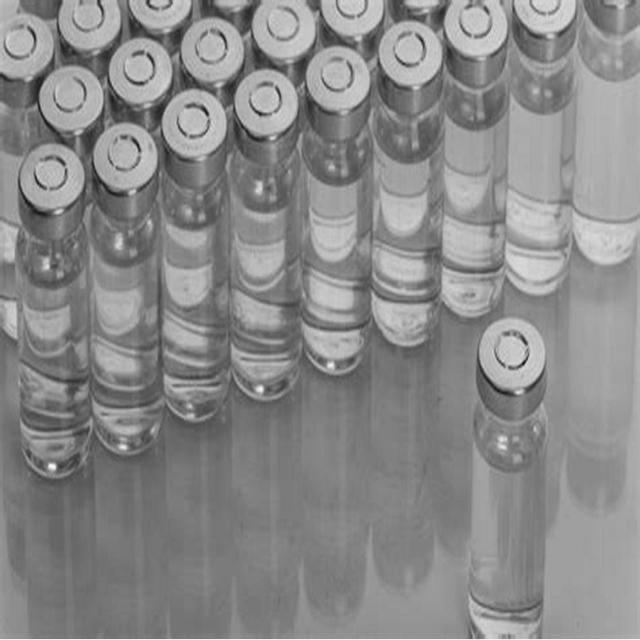vial: (478, 318, 548, 389), (310, 38, 373, 116), (160, 98, 234, 162), (17, 149, 88, 215), (97, 118, 159, 188), (378, 27, 442, 89), (449, 0, 509, 66), (7, 7, 52, 94), (237, 75, 302, 135), (105, 39, 165, 101), (184, 25, 242, 87), (252, 0, 314, 55), (43, 71, 106, 125), (54, 0, 125, 46), (316, 0, 384, 37), (511, 0, 571, 41), (129, 0, 193, 32), (590, 1, 640, 27), (392, 0, 440, 16), (213, 0, 252, 12)
